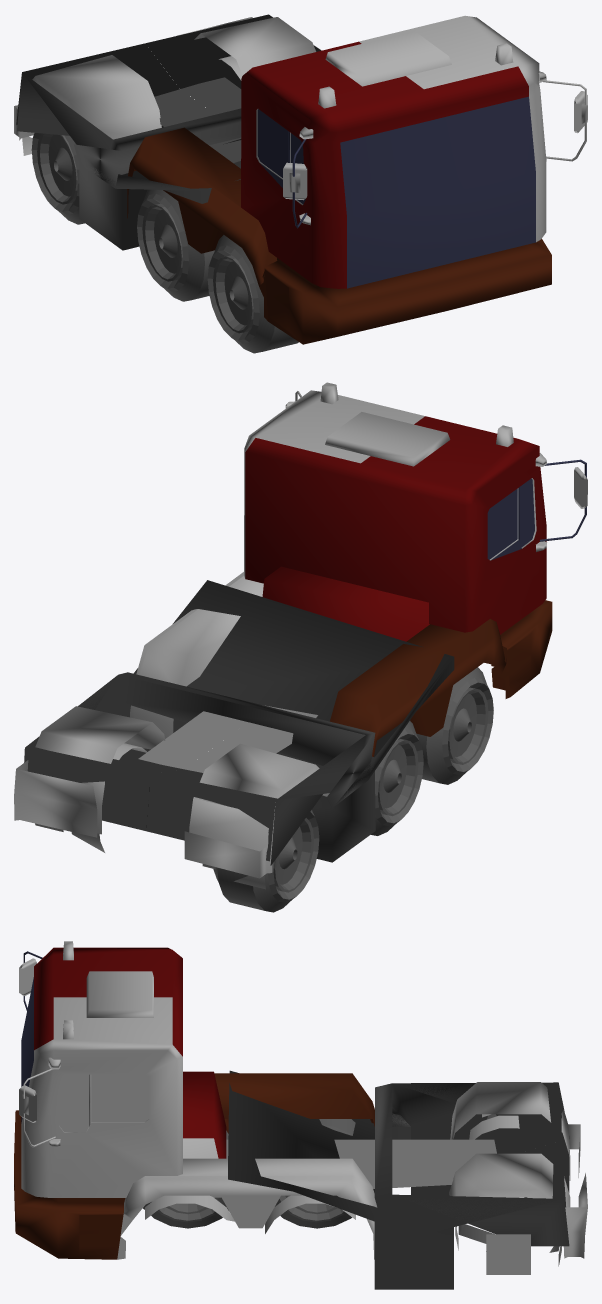
Rendered from TruckRed.fbx.
The picture shows the model from 3 angles, top to bottom: view 1: azimuth 30°, elevation 25°; view 2: azimuth 150°, elevation 25°; view 3: azimuth 270°, elevation 25°; orthographic projection. The views are drawn at different scales.
Visible parts, largest first — view 1: Fueler, pPipe2, pPipe3, pPipe1; view 2: Fueler, pPipe3, pPipe1, pPipe2; view 3: Fueler, pPipe2, pPipe3.
Boxes of the visible parts, x1=… form: Fueler: x1=14, y1=14, x2=587, y2=344; pPipe2: x1=137, y1=189, x2=214, y2=301; pPipe3: x1=207, y1=235, x2=298, y2=353; pPipe1: x1=31, y1=133, x2=84, y2=224; Fueler: x1=14, y1=382, x2=587, y2=889; pPipe3: x1=416, y1=667, x2=493, y2=784; pPipe1: x1=213, y1=810, x2=319, y2=912; pPipe2: x1=371, y1=721, x2=423, y2=835; Fueler: x1=14, y1=941, x2=587, y2=1289; pPipe2: x1=275, y1=1119, x2=355, y2=1228; pPipe3: x1=143, y1=1130, x2=228, y2=1228.
Bounding box in the file's own units: 4.31 × 4.1 × 7.69.
